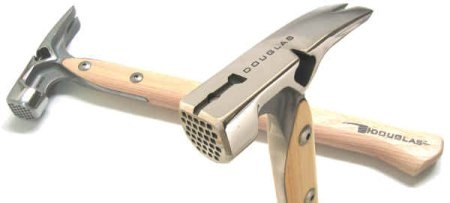hammer: (179, 1, 377, 203), (6, 4, 174, 126)
